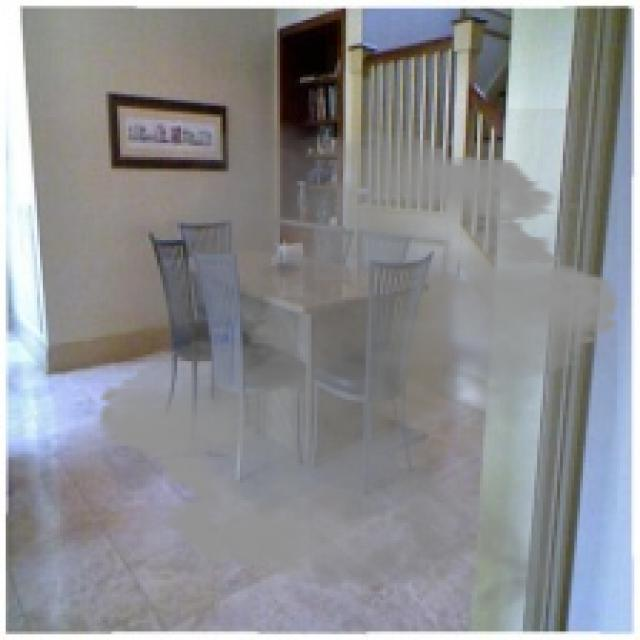smoke: (80, 109, 637, 626)
